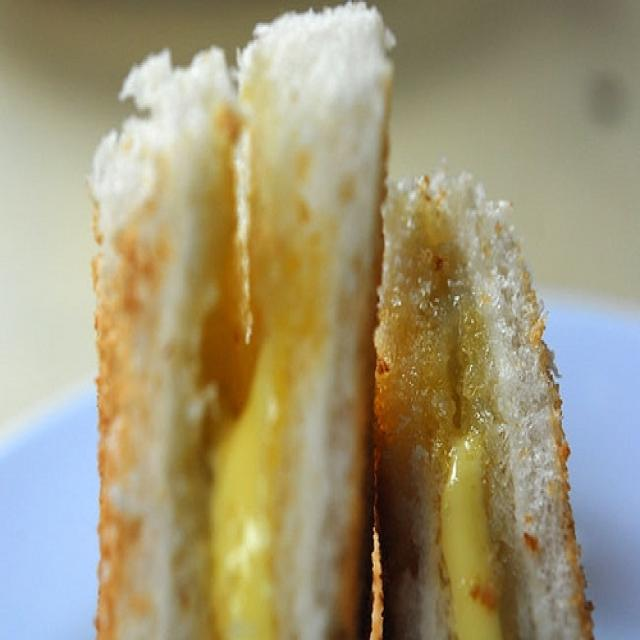面包点心: (19, 23, 608, 628)
